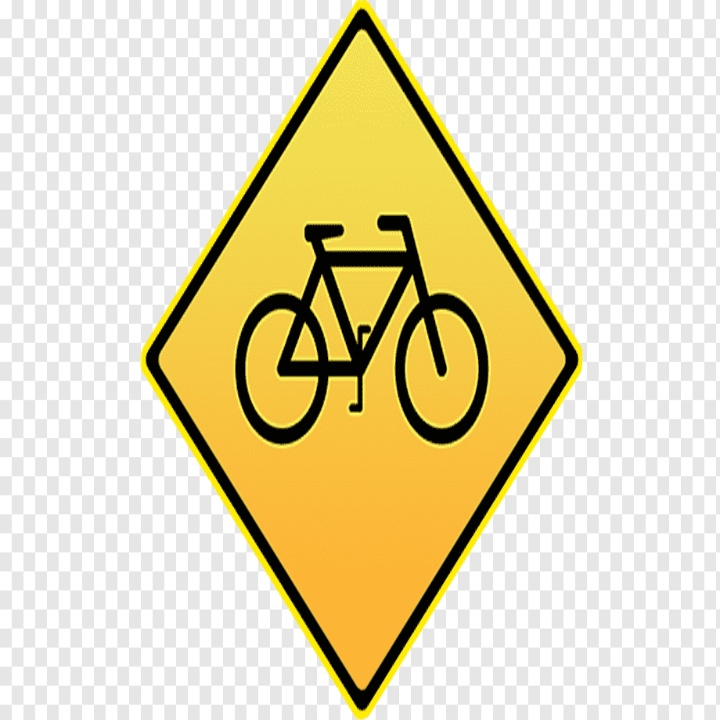bicycle: (233, 211, 489, 445)
